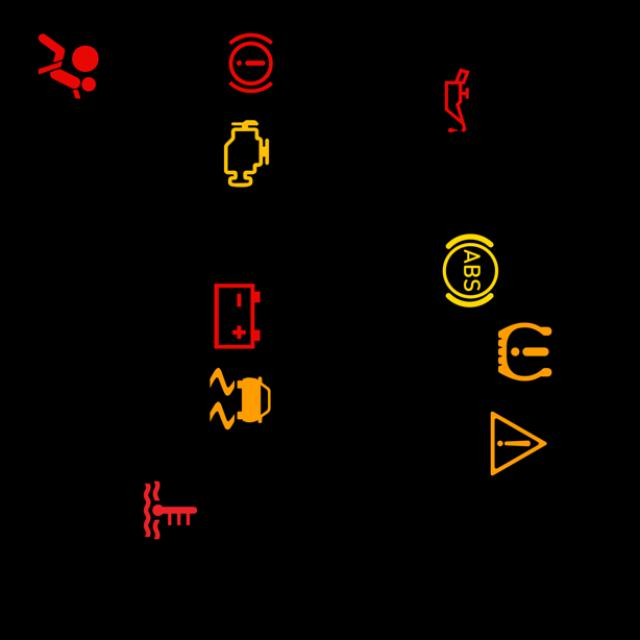Anti Lock Braking System: (430, 230, 511, 311)
Braking System Issue: (210, 23, 291, 103)
Charging System Issue: (197, 276, 277, 357)
Check Engine: (206, 113, 287, 194)
Electronic Stability Problem -ESP-: (200, 358, 281, 439)
Engine Overheating Warning Light: (130, 470, 211, 550)
Low Engine Oil Warning Light: (417, 60, 497, 141)
Low Tire Pressure Warning Light: (485, 312, 565, 392)
Master warning light: (478, 403, 559, 484)
SRS-Airbag: (28, 26, 109, 106)
